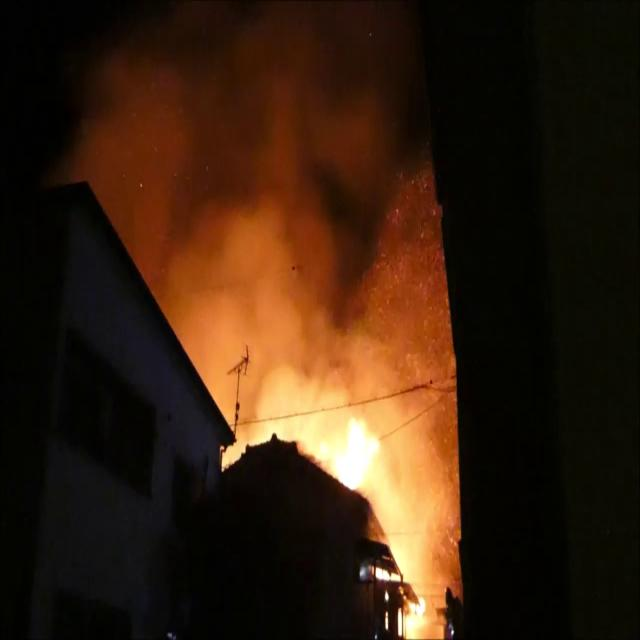Fire: (300, 398, 390, 519)
Smoke: (31, 1, 451, 412)
